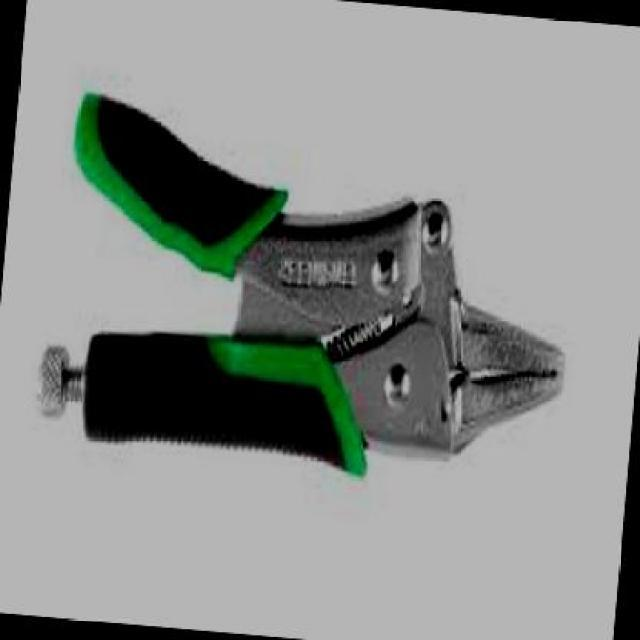pliers: (14, 68, 616, 524)
